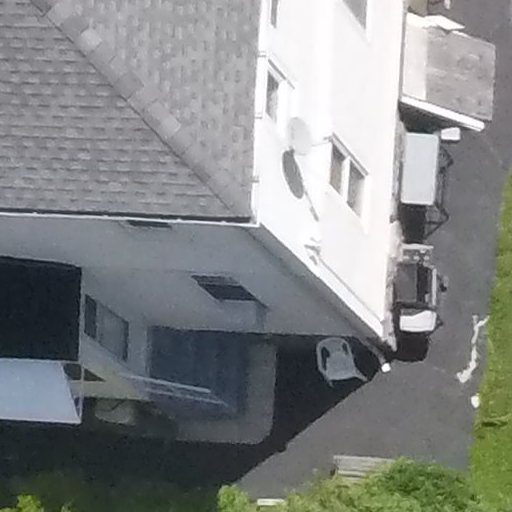chair: (311, 333, 372, 393)
